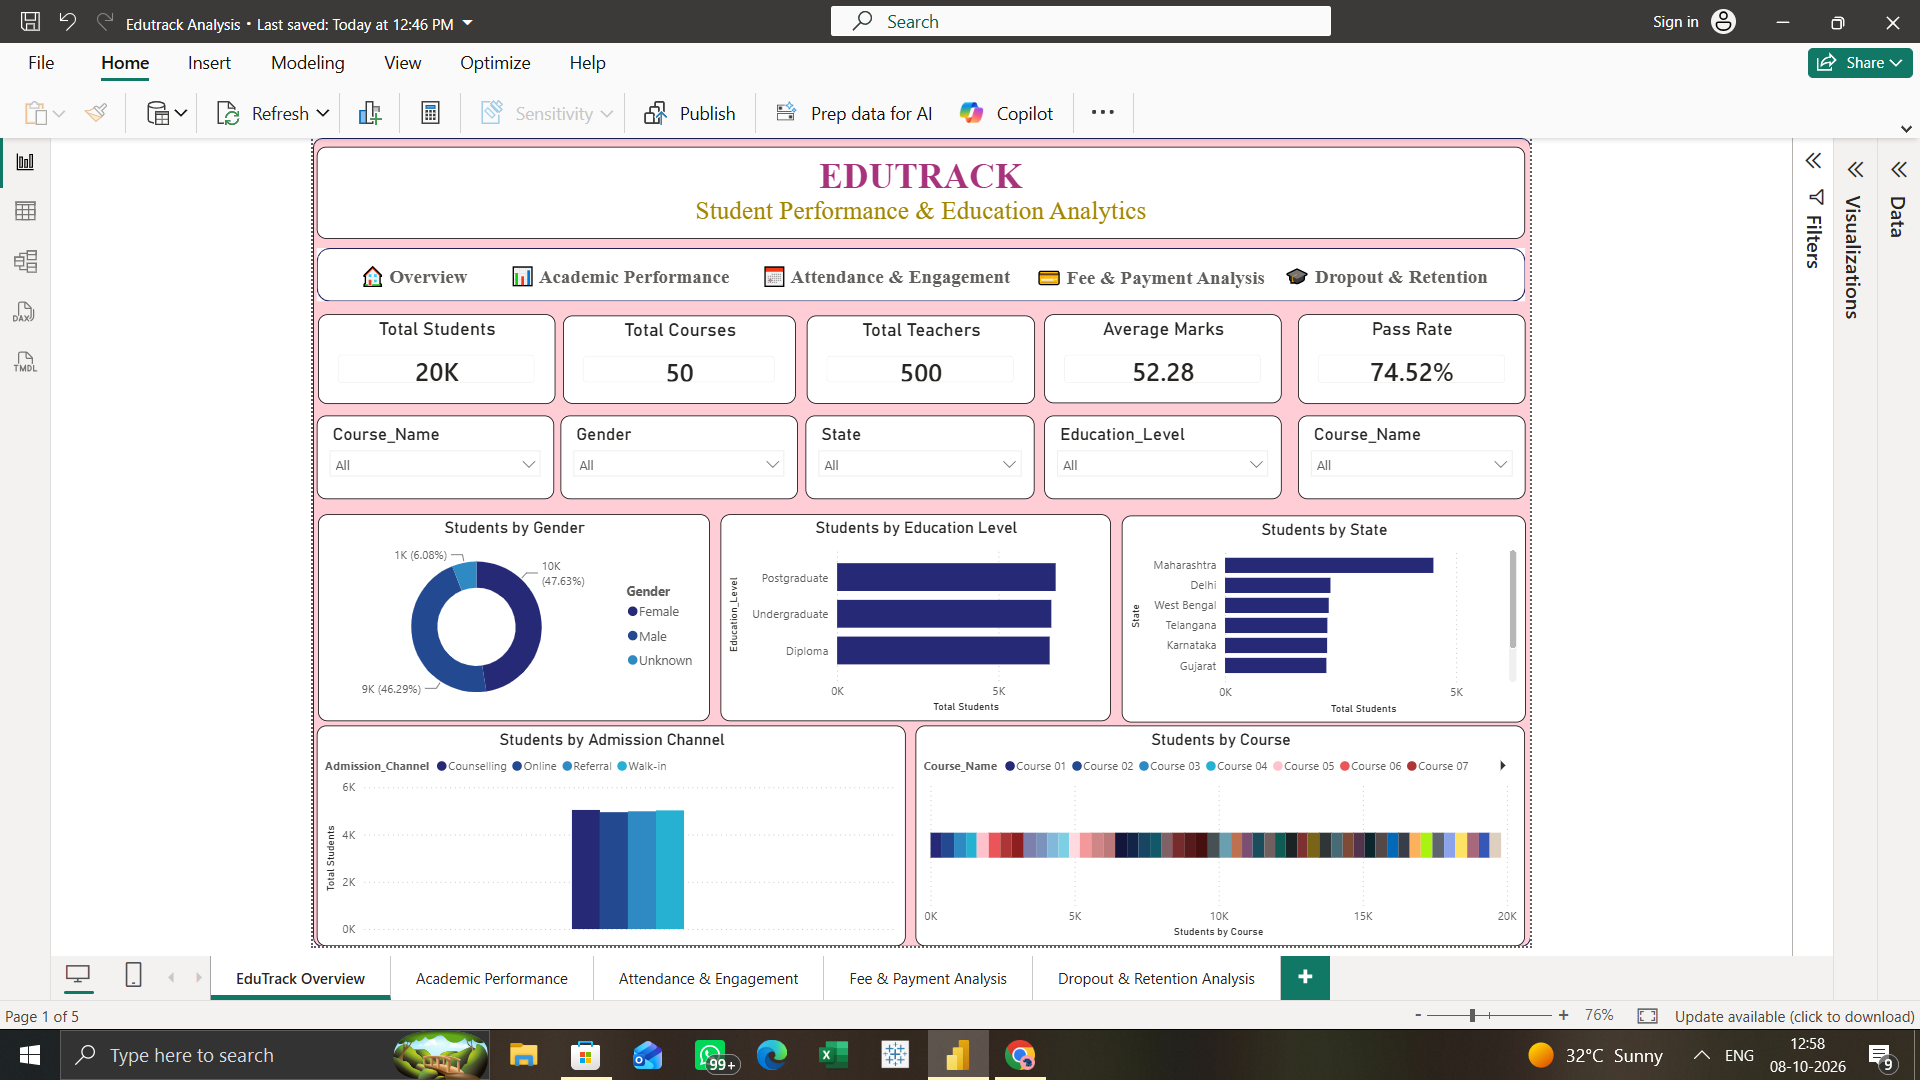

What the dashboard file says about the page in this screenshot:
{"tool":"powerbi","page":{"name":"EduTrack Overview","canvas":[1280,850],"ordinal":0},"visuals":[{"type":"shape","box":[0,0,1280.4,850.3],"z":0},{"type":"textbox","box":[4,9.4,1270.8,96.5],"z":1000},{"type":"shape","box":[4,115.3,1270.8,56.3],"z":2000},{"type":"actionButton","box":[4,119.3,205.1,49.6],"z":3000},{"type":"actionButton","box":[195.7,119.3,253.4,49.6],"z":4000},{"type":"actionButton","box":[462.5,119.3,280.2,49.6],"z":5000},{"type":"actionButton","box":[752,123.3,257.4,42.9],"z":6000},{"type":"actionButton","box":[1000,123.3,256,41.6],"z":7000},{"type":"cardVisual","title":"Total Students","fields":{"Data":["DateTable.Total Students"]},"box":[5.7,185.2,249.2,94],"z":8000},{"type":"cardVisual","title":"Total Courses","fields":{"Data":["DateTable.Total Courses"]},"box":[263.5,186.6,245,92.6],"z":9000},{"type":"cardVisual","title":"Average Marks","fields":{"Data":["DateTable.Average Marks"]},"box":[769.4,185,249.3,93.8],"z":10000},{"type":"cardVisual","title":"Pass Rate","fields":{"Data":["DateTable.Pass Rate"]},"box":[1035.4,185.2,239.3,94],"z":11000},{"type":"cardVisual","title":"Total Teachers","fields":{"Data":["DateTable.Total Teachers"]},"box":[518.8,186.3,239.9,92.5],"z":12000},{"type":"donutChart","title":"Students by Gender","fields":{"Category":["edutrack students.Gender"],"Y":["DateTable.Total Students"]},"box":[5.7,395.9,411.6,217.9],"z":13000},{"type":"clusteredBarChart","title":"Students by Education Level","fields":{"Category":["edutrack students.Education_Level"],"Y":["DateTable.Total Students"]},"box":[428.7,395.9,410.2,217.9],"z":14000},{"type":"clusteredBarChart","title":"Students by State","fields":{"Category":["edutrack students.State"],"Y":["DateTable.Total Students"]},"box":[850.3,397.4,424.4,217.9],"z":15000},{"type":"clusteredColumnChart","title":"Students by Admission Channel","fields":{"Y":["DateTable.Total Students"],"Series":["edutrack students.Admission_Channel"]},"box":[4.3,618.1,619.6,232.2],"z":16000},{"type":"barChart","title":"Students by Course","fields":{"Series":["edutrack courses.Course_Name"],"Y":["DateTable.Students by Course"]},"box":[633.8,618.1,640.9,232.2],"z":17000},{"type":"slicer","fields":{"Values":["edutrack courses.Course_Name"]},"box":[4.3,292,249.2,88.3],"z":18000},{"type":"slicer","fields":{"Values":["edutrack students.Gender"]},"box":[260.6,292,249.2,88.3],"z":19000},{"type":"slicer","fields":{"Values":["edutrack students.State"]},"box":[518.4,292,240.7,88.3],"z":20000},{"type":"slicer","fields":{"Values":["edutrack students.Education_Level"]},"box":[769.1,292,249.2,88.3],"z":21000},{"type":"slicer","fields":{"Values":["edutrack courses.Course_Name"]},"box":[1035.4,292,239.3,88.3],"z":22000}]}

Visuals, with their boxes on the page's 1280x850 design canvas (x1, y1, x2, y2). These are canvas units, not pixel positions in the 1920x1080 screenshot, which may show the page scaled, cropped or inside an application window:
shape: bbox=(0, 0, 1280, 850)
textbox: bbox=(4, 9, 1275, 106)
shape: bbox=(4, 115, 1275, 172)
actionButton: bbox=(4, 119, 209, 169)
actionButton: bbox=(196, 119, 449, 169)
actionButton: bbox=(462, 119, 743, 169)
actionButton: bbox=(752, 123, 1009, 166)
actionButton: bbox=(1000, 123, 1256, 165)
"Total Students" cardVisual: bbox=(6, 185, 255, 279)
"Total Courses" cardVisual: bbox=(264, 187, 508, 279)
"Average Marks" cardVisual: bbox=(769, 185, 1019, 279)
"Pass Rate" cardVisual: bbox=(1035, 185, 1275, 279)
"Total Teachers" cardVisual: bbox=(519, 186, 759, 279)
"Students by Gender" donutChart: bbox=(6, 396, 417, 614)
"Students by Education Level" clusteredBarChart: bbox=(429, 396, 839, 614)
"Students by State" clusteredBarChart: bbox=(850, 397, 1275, 615)
"Students by Admission Channel" clusteredColumnChart: bbox=(4, 618, 624, 850)
"Students by Course" barChart: bbox=(634, 618, 1275, 850)
slicer - edutrack courses.Course_Name: bbox=(4, 292, 254, 380)
slicer - edutrack students.Gender: bbox=(261, 292, 510, 380)
slicer - edutrack students.State: bbox=(518, 292, 759, 380)
slicer - edutrack students.Education_Level: bbox=(769, 292, 1018, 380)
slicer - edutrack courses.Course_Name: bbox=(1035, 292, 1275, 380)
